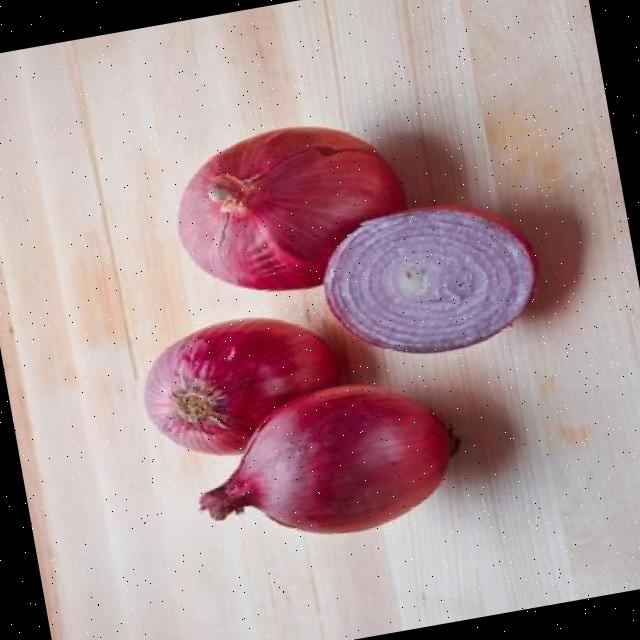Onion: (200, 384, 457, 532), (179, 125, 404, 288), (145, 317, 338, 453)
